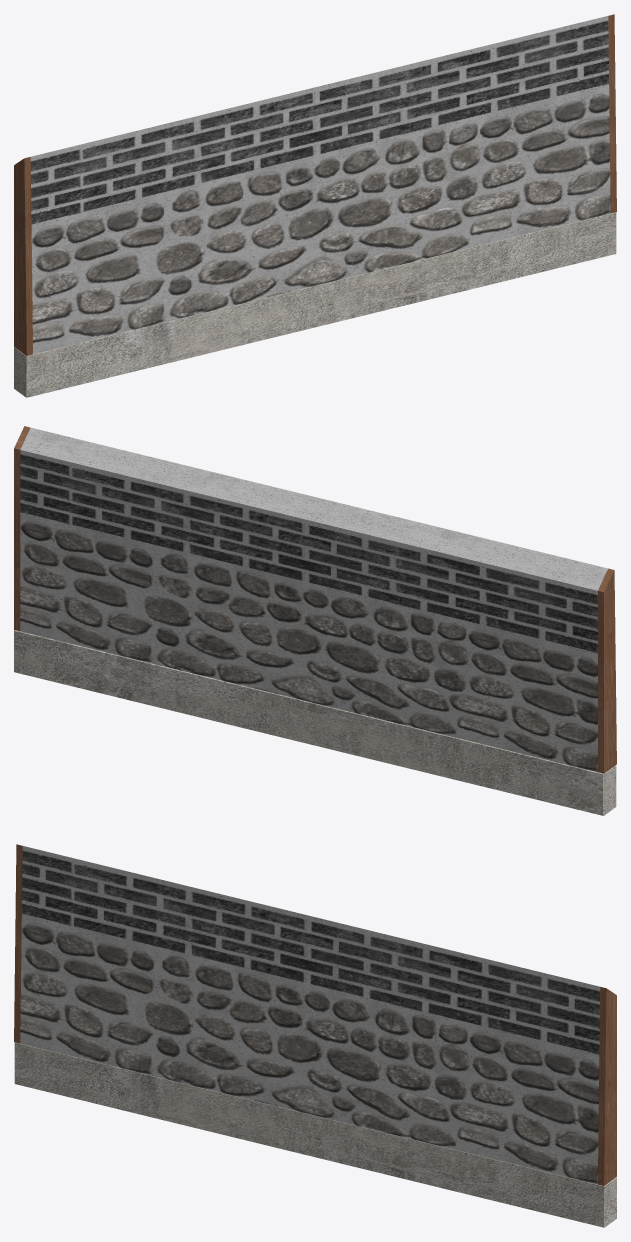
Rendered from SM_Baeryeom_Wall_C9.fbx.
3 renders of one model, top to bottom at view 1: azimuth 30°, elevation 25°; view 2: azimuth 150°, elevation 25°; view 3: azimuth 330°, elevation 25°, orthographic.
Visible parts, largest first — view 1: SM_Baeryeom_Wall_C9; view 2: SM_Baeryeom_Wall_C9; view 3: SM_Baeryeom_Wall_C9.
Part boxes in pixels (x1=…): SM_Baeryeom_Wall_C9: x1=14, y1=14, x2=616, y2=397; SM_Baeryeom_Wall_C9: x1=14, y1=426, x2=616, y2=815; SM_Baeryeom_Wall_C9: x1=14, y1=844, x2=616, y2=1227.
Bounding box in the file's own units: 284 × 109 × 11.03.
